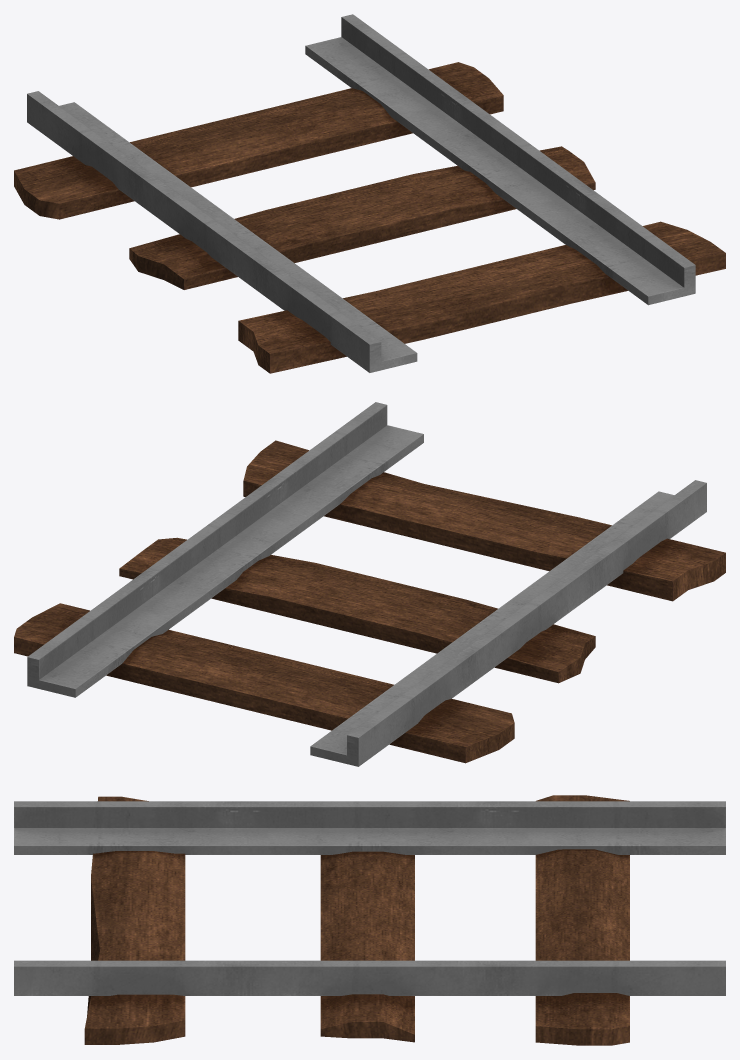
Rendered from dollyrail-000.fbx.
3 views of the same model, one above another, from view 1: azimuth 30°, elevation 25°; view 2: azimuth 150°, elevation 25°; view 3: azimuth 270°, elevation 25° (orthographic). The views are drawn at different scales.
Visible parts, largest first — view 1: body; view 2: body; view 3: body.
Boxes of the visible parts, x1,y1,x2,y2 form: body: (14, 14, 725, 373); body: (14, 402, 725, 766); body: (14, 795, 725, 1045).
Size of the model in its own units: 156 by 14.26 by 200.
Materials: 1 (1 with a texture image).
